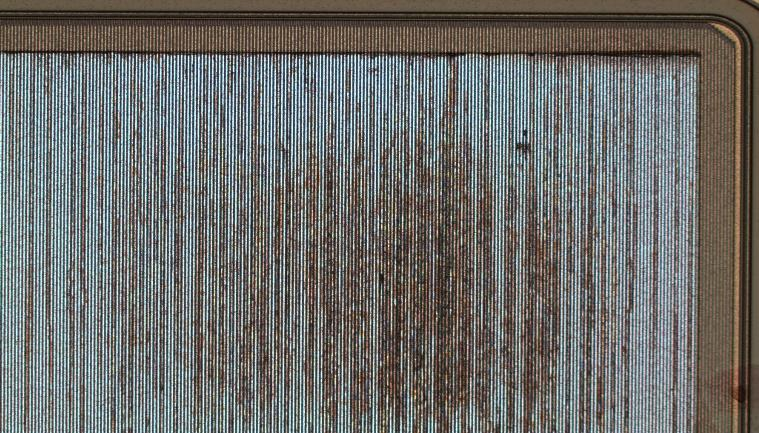SEZ BURNT: (3, 53, 699, 433)
